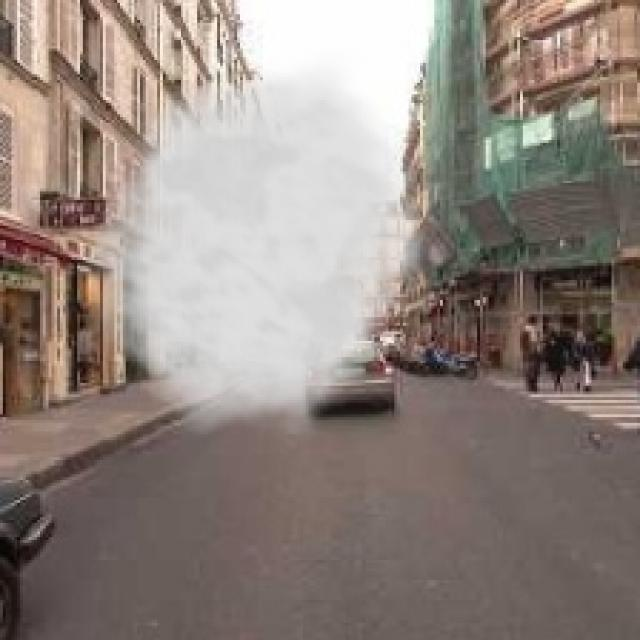smoke: (74, 49, 437, 440)
